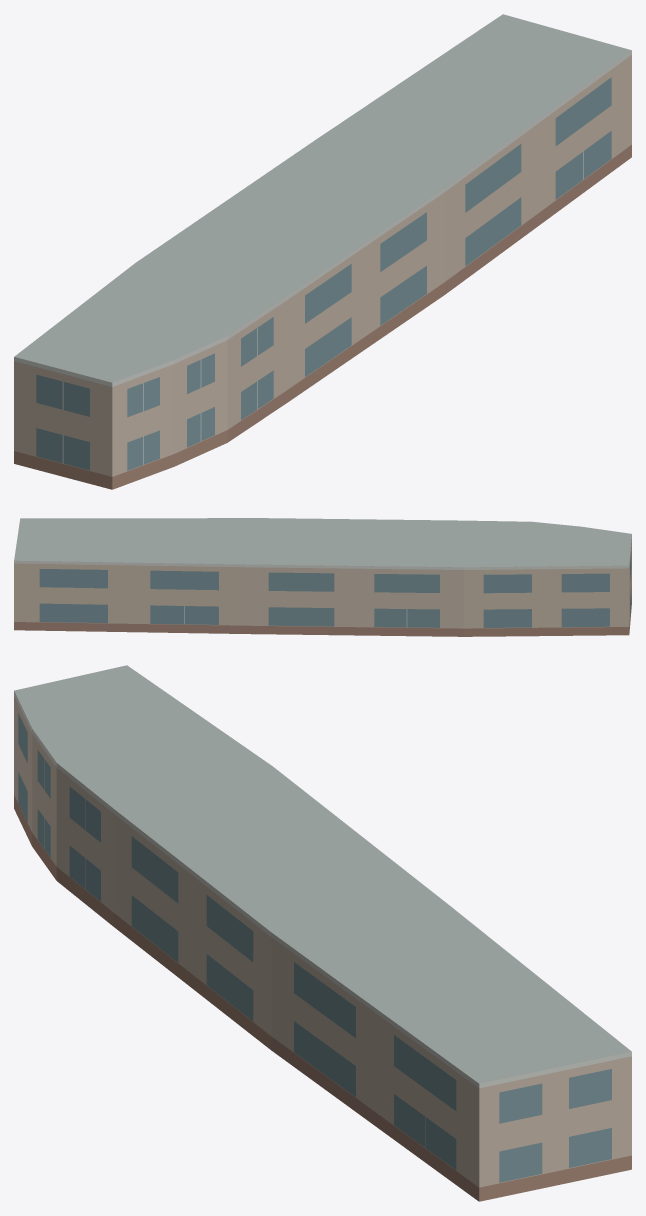
The model's file is survey-upis-32775708.glb.
The picture shows the model from 3 angles, top to bottom: view 1: azimuth 30°, elevation 25°; view 2: azimuth 150°, elevation 25°; view 3: azimuth 270°, elevation 25°; orthographic projection. The views are drawn at different scales.
Visible parts, largest first — view 1: survey-upis-32775708.tmp; view 2: survey-upis-32775708.tmp; view 3: survey-upis-32775708.tmp.
Boxes of the visible parts, left/top/right/bottom form: survey-upis-32775708.tmp: left=14, top=14, right=631, bottom=489; survey-upis-32775708.tmp: left=14, top=518, right=631, bottom=636; survey-upis-32775708.tmp: left=14, top=665, right=631, bottom=1201.
Size of the model in its own units: 46.38 by 6.1 by 28.94.
